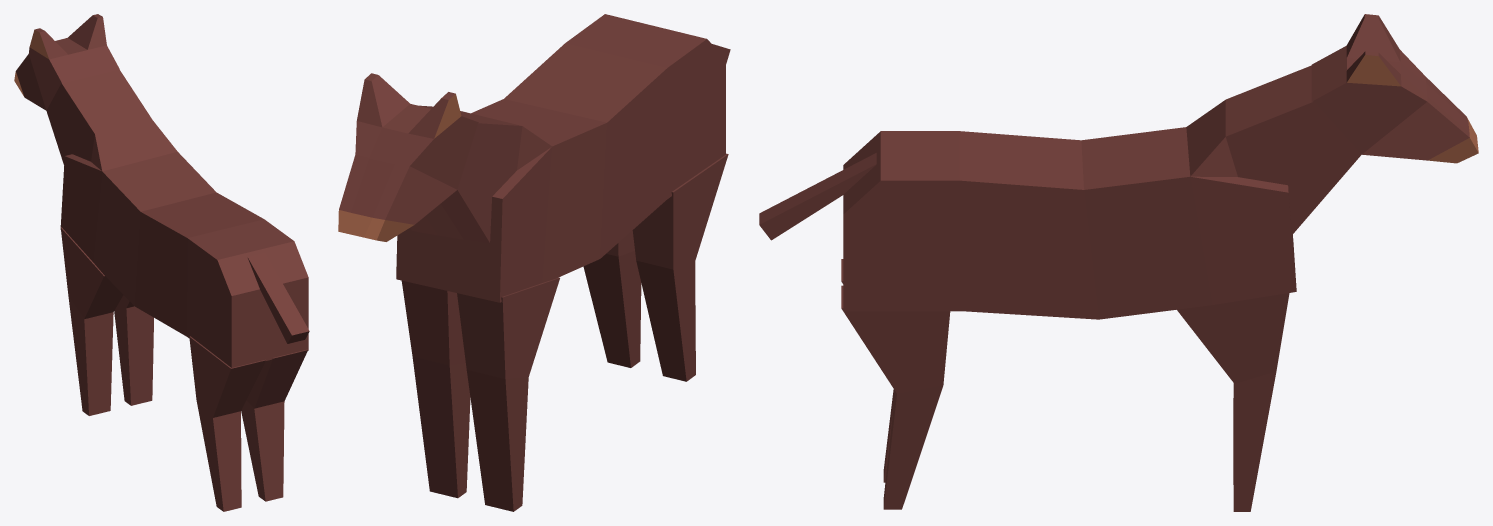
File: PastorinoDesperesBenicio_4C_caballo.fbx
3 views of the same model, side by side, from view 1: azimuth 30°, elevation 25°; view 2: azimuth 150°, elevation 25°; view 3: azimuth 270°, elevation 25° (orthographic). The views are drawn at different scales.
Parts seen in each view (by area): view 1: Cube.007; view 2: Cube.007; view 3: Cube.007.
Part boxes in pixels (<box>): Cube.007: <box>14,14,309,511</box>; Cube.007: <box>338,14,730,511</box>; Cube.007: <box>759,14,1478,511</box>.
Size of the model in its own units: 57.58 by 241 by 344.
Materials: 1 (1 with a texture image).
